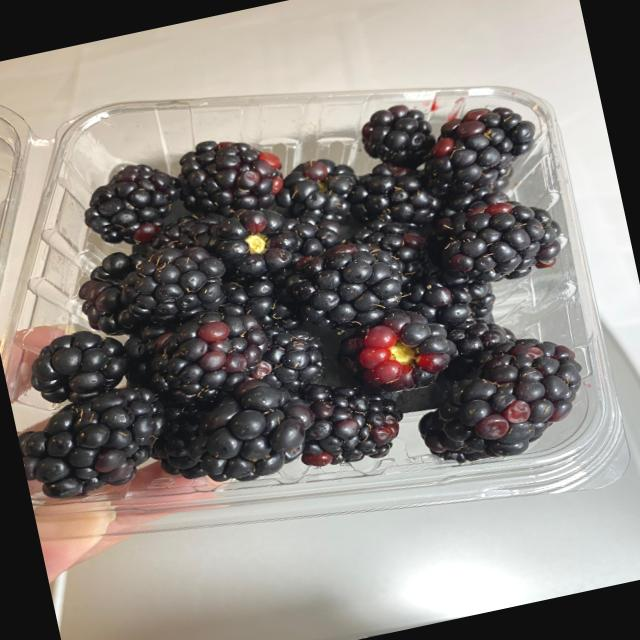blackberries: (6, 51, 602, 530)
